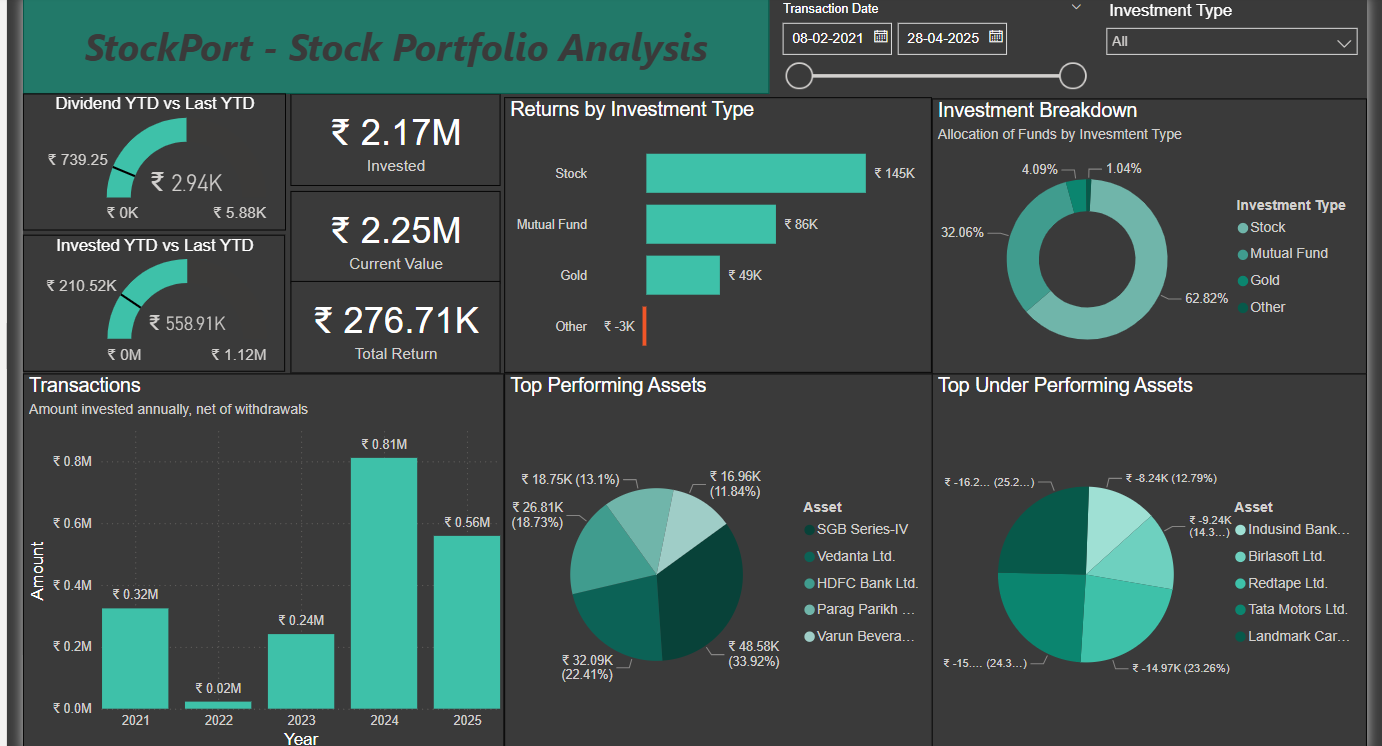

The page's visual inventory and layout, read from the dashboard file:
{"tool":"powerbi","page":{"name":"Overview","canvas":[1280,720],"ordinal":0},"visuals":[{"type":"columnChart","title":"Transactions","fields":{"Category":["Append1.Transaction Date.Variation.Date Hierarchy.Year","Append1.Transaction Date.Variation.Date Hierarchy.Month","Append1.Transaction Date.Variation.Date Hierarchy.Day"],"Y":["Sum(Append1.Amount(Credits/Debits))"]},"box":[0,359.5,458.3,360.9],"z":2000},{"type":"card","fields":{"Values":["Sum(Current Value.Current Value)"]},"box":[254.5,185.2,200,87.8],"z":3000},{"type":"card","fields":{"Values":["Sum(Current Value.Total cost)"]},"box":[254.5,93.3,200,87.8],"z":4000},{"type":"donutChart","title":"Investment Breakdown","fields":{"Category":["Current Value.Investment Type"],"Y":["Sum(Current Value.Current Value)"]},"box":[865.5,96.4,414.3,263.1],"z":5000},{"type":"card","fields":{"Values":["Sum(Current Value.Total Return)"]},"box":[254.5,271.7,200,87.8],"z":6000},{"type":"slicer","fields":{"Values":["Append1.Transaction Date"]},"box":[710.8,0,310.1,93.3],"z":7000},{"type":"pieChart","title":"Top Performing Assets","fields":{"Category":["Current Value.Fund Name"],"Y":["Sum(Current Value.Total Return)"]},"box":[458.3,359.5,408.9,360.9],"z":8000},{"type":"barChart","title":"Returns by Investment Type","fields":{"Category":["Current Value.Investment Type"],"Y":["Sum(Current Value.Total Return)"]},"box":[458.3,96.1,407.5,262.1],"z":9000},{"type":"pieChart","title":"Top Under Performing Assets","fields":{"Category":["Current Value.Fund Name"],"Y":["Sum(Current Value.Total Return)"]},"box":[865.9,359.5,414.4,360.9],"z":10000},{"type":"shape","box":[0,0,710.8,93.3],"z":12000},{"type":"slicer","fields":{"Values":["Append1.Investment Type"]},"box":[1020.9,0,259.3,94.7],"z":13000},{"type":"gauge","title":"Dividend YTD vs Last YTD","fields":{"TargetValue":["Append1.Last YEAR YTD"],"Y":["Append1.YTD Dividend"]},"box":[0,93.3,250,130.4],"z":13500},{"type":"gauge","title":"Invested YTD vs Last YTD","fields":{"Y":["Append1.YTD Investment"],"TargetValue":["Append1.Last YTD Investment"]},"box":[0,227.8,249.7,130.4],"z":14000}]}

Visuals, with their boxes in screenshot pixels (x1, y1, x2, y2):
"Transactions" columnChart: detection(14, 380, 499, 745)
card - Sum(Current Value.Current Value): detection(284, 196, 495, 289)
card - Sum(Current Value.Total cost): detection(284, 99, 495, 192)
"Investment Breakdown" donutChart: detection(930, 102, 1368, 380)
card - Sum(Current Value.Total Return): detection(284, 287, 495, 380)
slicer - Append1.Transaction Date: detection(766, 0, 1094, 99)
"Top Performing Assets" pieChart: detection(499, 380, 932, 745)
"Returns by Investment Type" barChart: detection(499, 102, 930, 379)
"Top Under Performing Assets" pieChart: detection(930, 380, 1369, 745)
shape: detection(14, 0, 766, 99)
slicer - Append1.Investment Type: detection(1094, 0, 1369, 100)
"Dividend YTD vs Last YTD" gauge: detection(14, 99, 279, 237)
"Invested YTD vs Last YTD" gauge: detection(14, 241, 279, 379)
